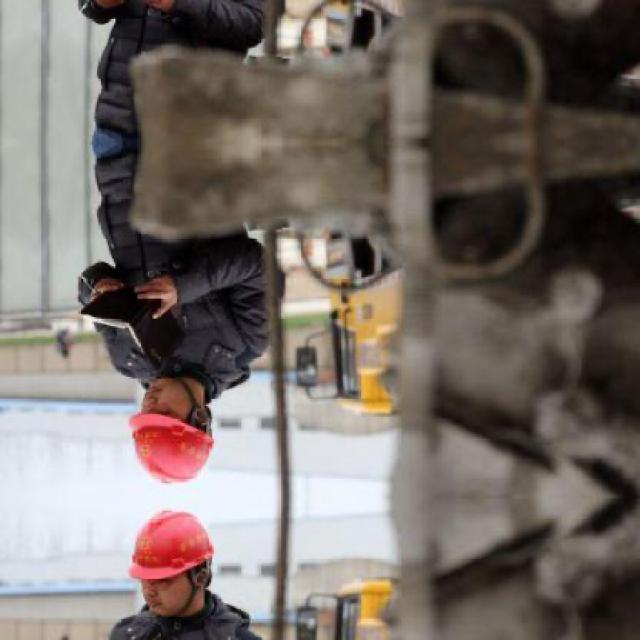con casco: (135, 375, 262, 480)
